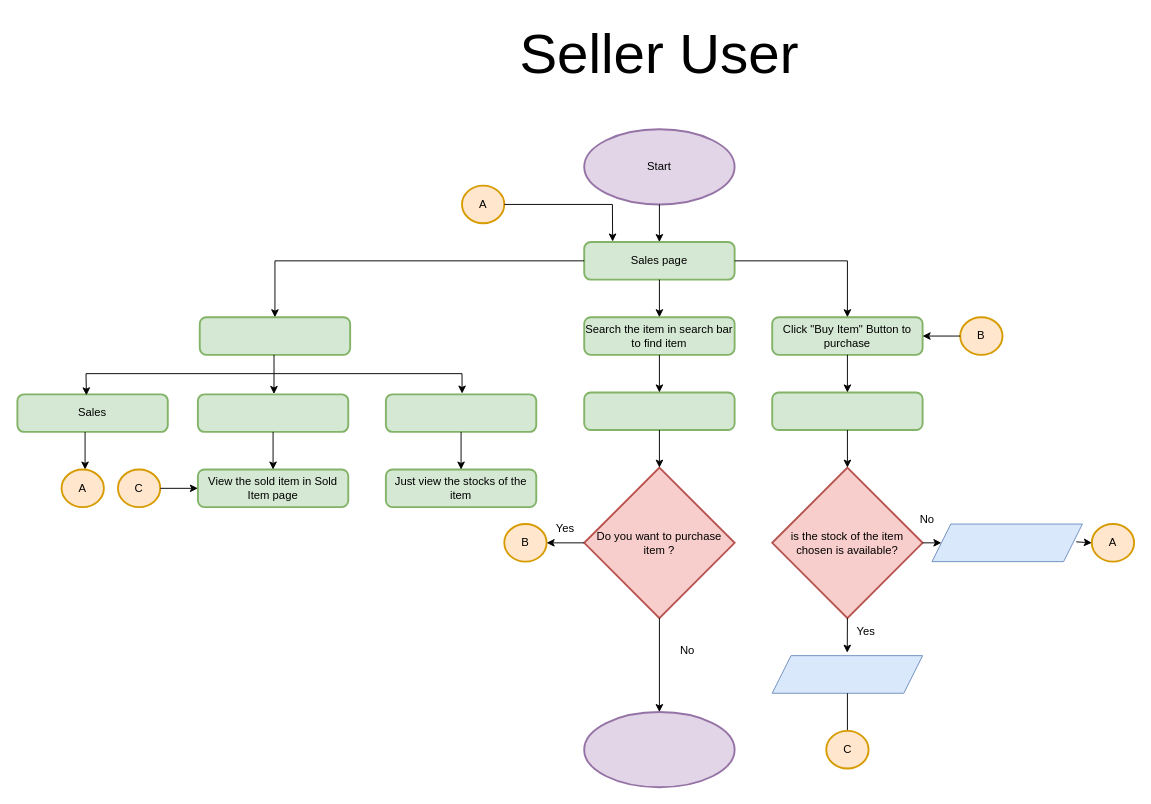
Some shapes in this 1151 by 804 pixel diagram are drawn without their labels. Each missing label, with the box of its shape:
End: (583, 711, 735, 788)
enter the customer information: (771, 391, 923, 431)
Go to the sales page of the searched item: (583, 391, 735, 431)
Item Stocks: (384, 393, 537, 432)
Output "out of stocks.": (931, 523, 1082, 562)
Output "successfully purchase.": (771, 655, 923, 693)
Sold Item: (196, 393, 349, 432)
Toggle Sidebar: (198, 316, 351, 355)
